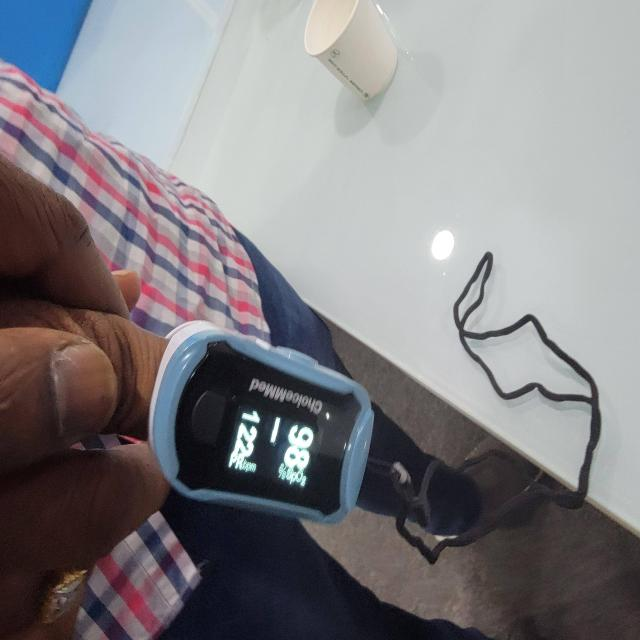spo2: (149, 324, 378, 528)
